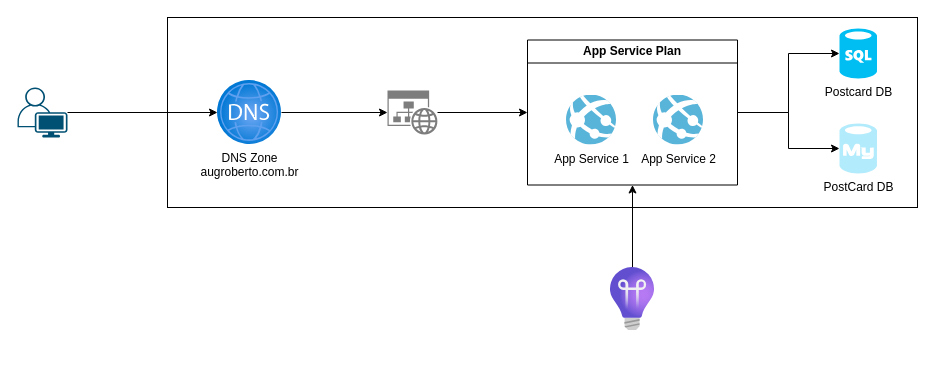
Image size: 935x369. Some labels were removed from this diagram. Each missing label, with the box of its shape:
Application Insights: (610, 267, 654, 330)
Postcard: (387, 90, 437, 134)
Usuário: (17, 87, 67, 137)
